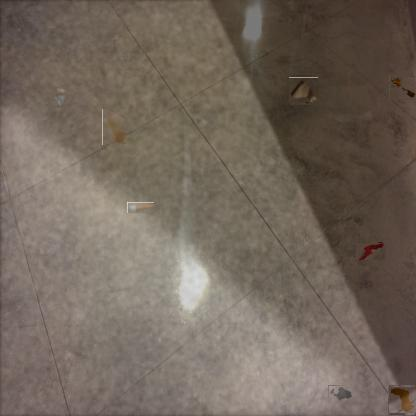dirty: (387, 386, 416, 414), (290, 76, 317, 104), (389, 76, 415, 100), (355, 242, 385, 260), (52, 86, 66, 108), (127, 202, 154, 213)
liquid: (102, 110, 127, 146), (328, 385, 352, 401)
